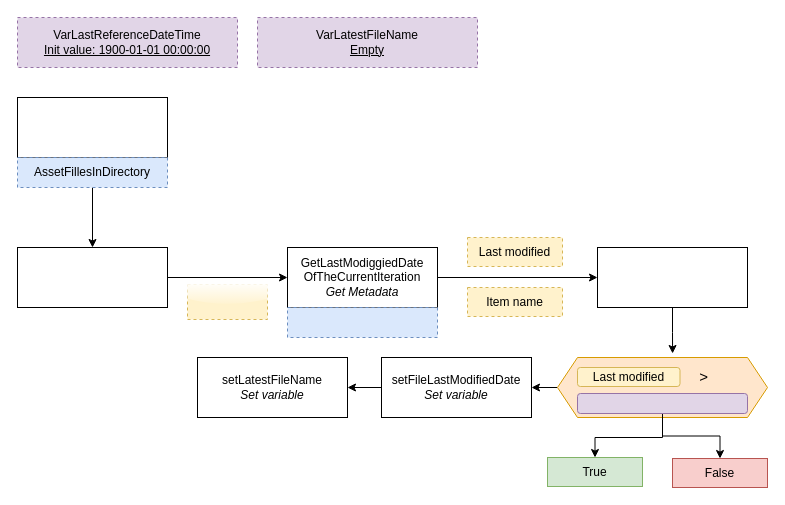
Image size: 785x505. Some labels were removed from this diagram. The centre of each missing label's shape, as x and y in pixels:
Assetfile: pixel 362 322
Child items: pixel 227 302
conditionToCheckIfFile DateGreaterThanSetDate if condition: pixel 672 277
GetListOfFileNames Get Metadata: pixel 92 127
LoopTroughAllFiles ForEach: pixel 92 277
VarLastReferenceDateTime: pixel 662 403
